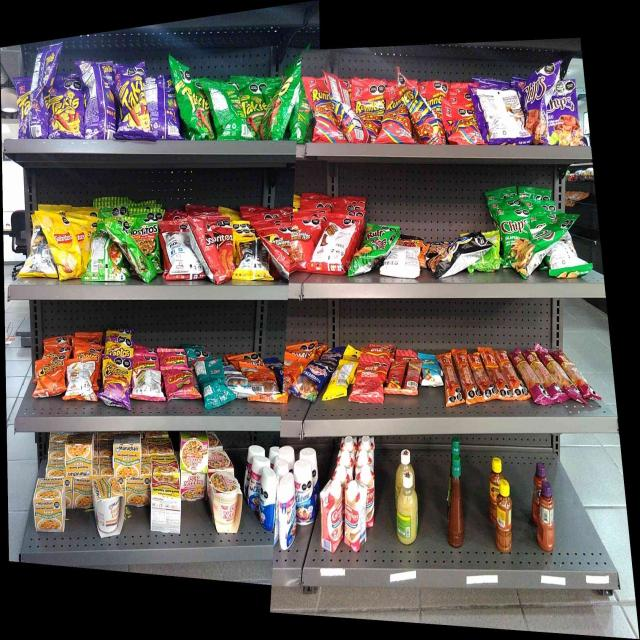bitzAlmendras: (422, 355, 440, 386)
bitzEnchilado90: (356, 357, 384, 404)
bitzEnchilado95: (504, 350, 521, 403), (474, 350, 489, 401), (459, 353, 473, 404), (443, 354, 457, 404), (490, 349, 502, 400)
bitzHabanero: (522, 349, 591, 404)
bokadosCacahuates: (297, 361, 326, 402)
botaneraChilito: (496, 478, 512, 554)
cheetosFlaminHot: (101, 353, 131, 408)
cheetosOriginal: (36, 359, 65, 395)
chipsFuego: (527, 69, 552, 144), (553, 81, 581, 145)
chipsJalapeno: (500, 207, 530, 246)
churrumais: (165, 366, 197, 399)
delPrimoSalsa: (395, 469, 418, 544)
doritosNacho: (195, 218, 232, 282)
leoCacahuates: (230, 370, 248, 397)
maruchanPollo: (93, 479, 124, 535), (33, 479, 66, 531), (66, 436, 93, 477), (115, 437, 141, 478)
maruchanRes: (153, 476, 181, 533)
nestleCarnation: (320, 478, 343, 552), (346, 480, 366, 551)
nestleLechera: (296, 462, 316, 524), (279, 475, 295, 549), (259, 468, 274, 534), (248, 456, 258, 511)
nissinCamaron: (181, 433, 208, 474)
nissinRes: (210, 472, 242, 534)
popKarameladas: (436, 233, 480, 276)
productoAtras: (476, 88, 526, 144), (210, 78, 246, 140), (28, 47, 52, 137), (87, 60, 114, 138), (152, 77, 178, 138), (162, 231, 194, 279), (319, 222, 348, 274), (550, 240, 588, 278), (236, 237, 268, 279), (200, 360, 228, 407), (335, 80, 355, 142), (67, 358, 95, 401), (390, 356, 420, 396), (25, 224, 47, 278), (250, 364, 280, 403), (388, 244, 420, 277), (132, 367, 162, 401), (332, 358, 352, 400), (90, 236, 107, 280)
rancheritos: (291, 218, 316, 269)
rufflesQueso: (355, 238, 385, 272)
runners: (310, 80, 333, 142), (413, 90, 439, 144), (360, 82, 384, 140), (386, 87, 410, 144)
sabritasOriginal: (48, 212, 79, 276)
salsaBufalo: (448, 454, 464, 546)
tajinDulce: (537, 480, 555, 552)
takisFuego: (116, 63, 150, 140), (54, 78, 85, 138)
takisOriginal: (180, 63, 208, 140), (269, 75, 295, 139), (247, 82, 266, 138)
tostitos: (134, 220, 160, 253), (109, 221, 132, 253)
